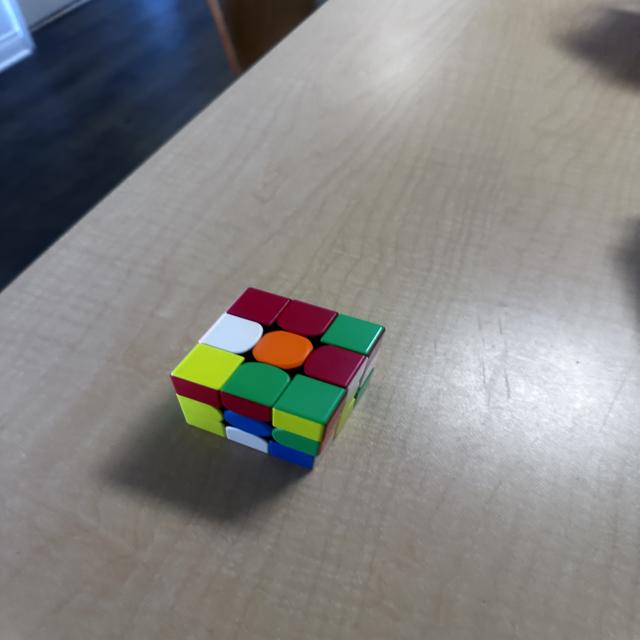sticker: (170, 343, 243, 405), (220, 362, 291, 422), (272, 373, 346, 428), (302, 344, 368, 391), (320, 312, 387, 356), (199, 313, 265, 355), (228, 286, 292, 328), (275, 298, 338, 338), (252, 330, 313, 371), (177, 394, 227, 438), (271, 406, 327, 444), (171, 374, 223, 411), (220, 390, 276, 424), (271, 426, 323, 458), (223, 409, 274, 439), (268, 438, 316, 469), (225, 425, 270, 453), (244, 289, 289, 316), (334, 395, 356, 440), (357, 367, 374, 401)
